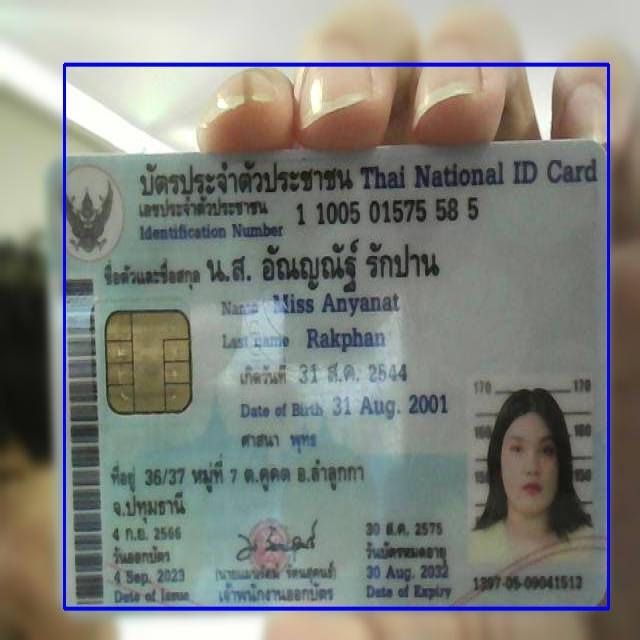Address_th: (109, 449, 375, 526)
Date_of_Birth: (329, 390, 451, 425)
Date_of_Expiry: (359, 561, 453, 584)
Date_of_Issue: (108, 567, 193, 590)
First_Name: (269, 290, 402, 319)
ID_Number: (293, 195, 484, 230)
Image: (461, 374, 593, 566)
Last_Name: (300, 321, 390, 355)
Thai_Name: (204, 238, 458, 292)
